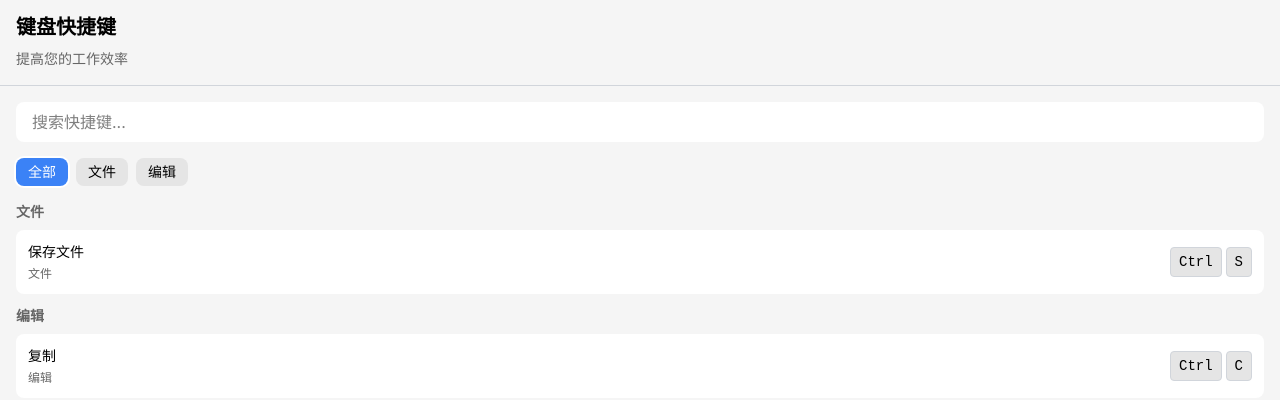
Test: KeyboardShortcuts › 搜索功能 › 应该根据描述搜索
Type "保存" into the field with placeholder "搜索快捷键..." at (640, 122), box top-left (16, 102), bottom-right (1264, 142)
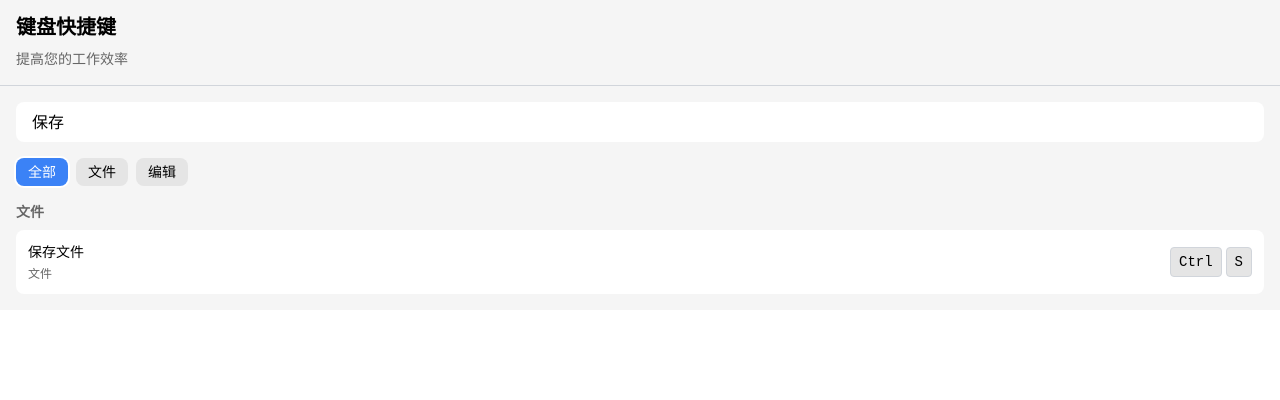
Expected: the text "保存文件" is shown, top-left (28, 243), bottom-right (84, 260)
Result: the text "复制" is gone
